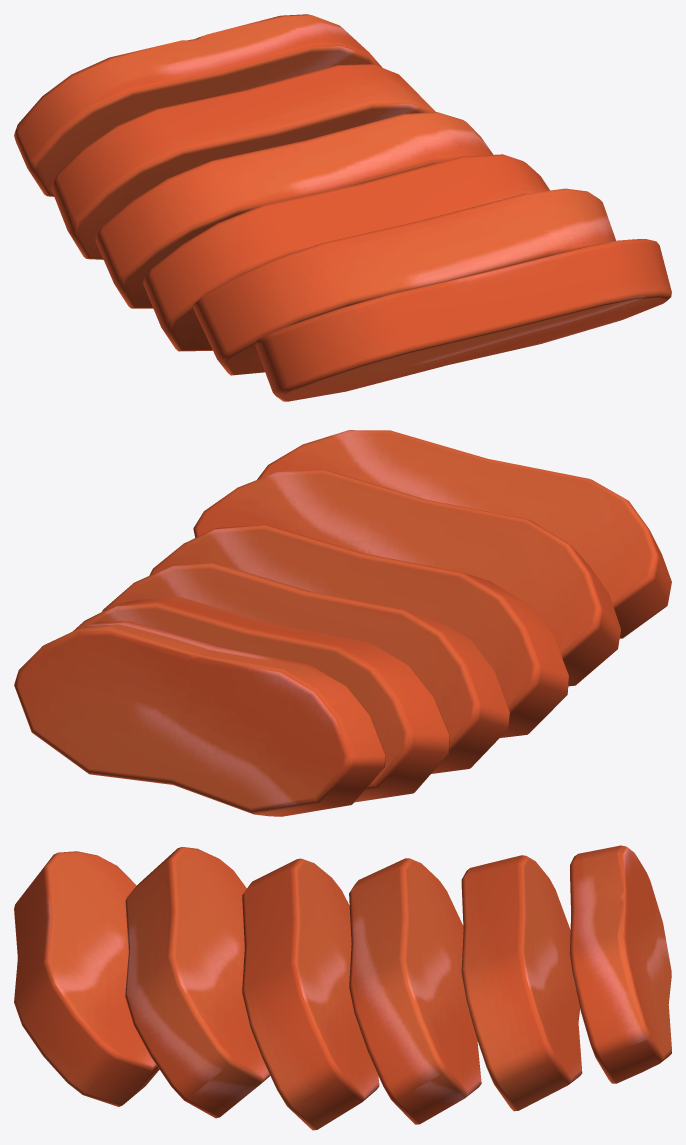
Rendered from Sushi_Roll_Salmon.fbx.
The picture shows the model from 3 angles, top to bottom: view 1: azimuth 30°, elevation 25°; view 2: azimuth 150°, elevation 25°; view 3: azimuth 270°, elevation 25°; orthographic projection. The views are drawn at different scales.
Parts seen in each view (by area): view 1: m_recipe_sushi_02; view 2: m_recipe_sushi_02; view 3: m_recipe_sushi_02.
Part boxes in pixels (box(x1,y1,x2,y2)): m_recipe_sushi_02: box(14, 14, 671, 401); m_recipe_sushi_02: box(14, 430, 671, 816); m_recipe_sushi_02: box(14, 845, 671, 1130).
Size of the model in its own units: 60.54 by 25.49 by 86.95.
1 material, 1 textured.
